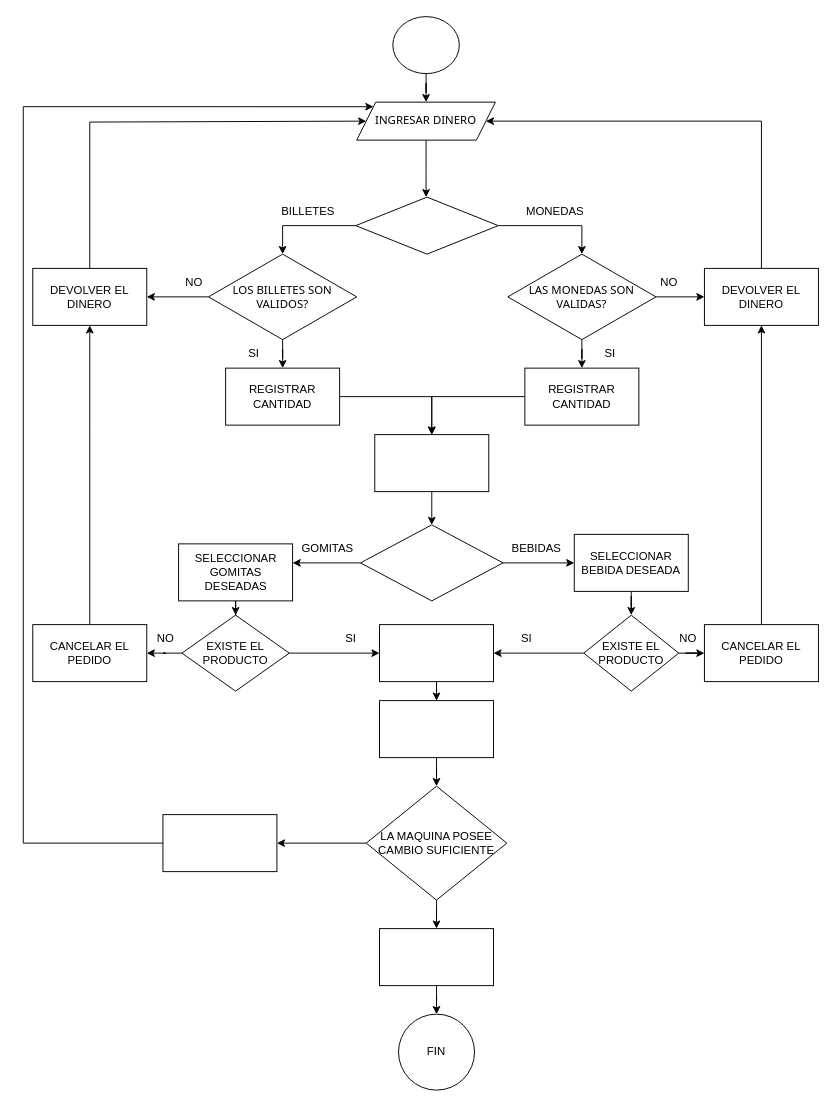
The diagram is 835 pixels wide and 1107 high, and some of its shapes have lost their labels. The centre of each missing label's shape, as x and y in pixels:
DAR CAMBIO: point 436,957
DESCONTAR EL DINERO TOTAL: point 436,729
DEVOLVER DINERO: point 219,843
DISPENSAR PRODUCTO SELECCIONADO: point 436,653
INICIO: point 425,45
QUE DESEA?: point 431,562
SUMAR CANTIDAD DE DINERO TOTAL: point 431,463
TIPO DE DINERO?: point 426,225
